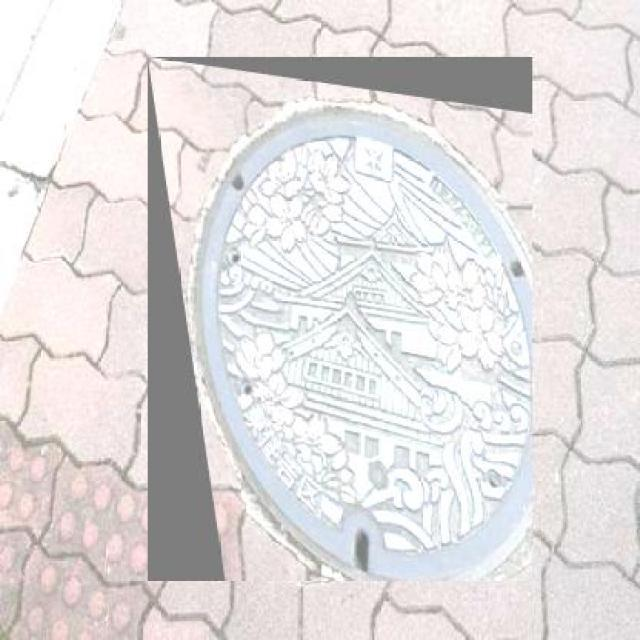Manhole: (148, 57, 532, 580)
